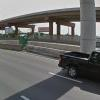Bridge: (2, 8, 91, 33)
